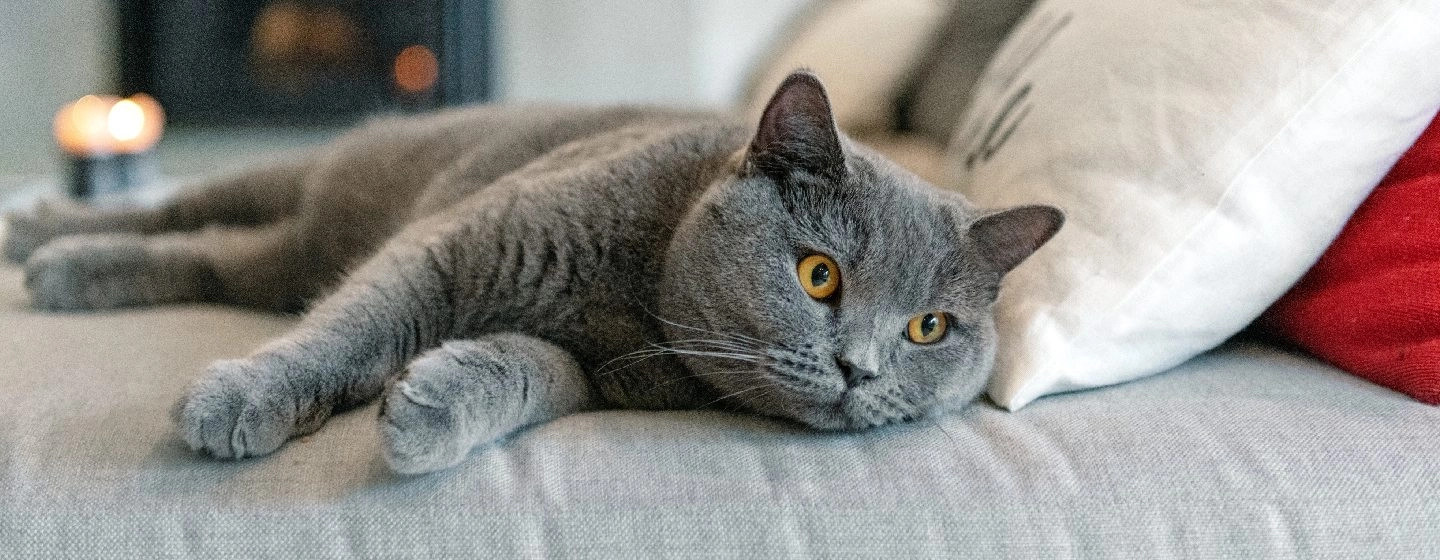cat: (0, 64, 1069, 474)
